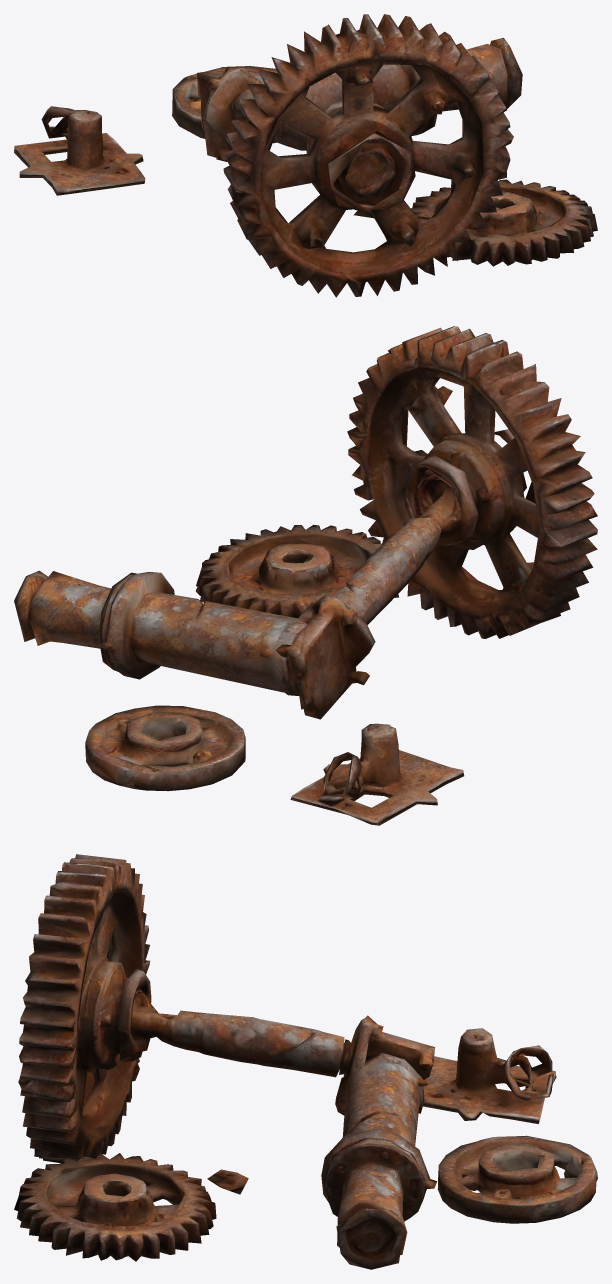
The model's file is qr_scrap3.glb.
The picture shows the model from 3 angles, top to bottom: view 1: azimuth 30°, elevation 25°; view 2: azimuth 150°, elevation 25°; view 3: azimuth 270°, elevation 25°; orthographic projection. The views are drawn at different scales.
Parts seen in each view (by area): view 1: tripo_node_7f6197f4-3ac9-4903-88a2-d6680f6cf3a9; view 2: tripo_node_7f6197f4-3ac9-4903-88a2-d6680f6cf3a9; view 3: tripo_node_7f6197f4-3ac9-4903-88a2-d6680f6cf3a9.
Part boxes in pixels (<box>): tripo_node_7f6197f4-3ac9-4903-88a2-d6680f6cf3a9: <box>14,14,597,297</box>; tripo_node_7f6197f4-3ac9-4903-88a2-d6680f6cf3a9: <box>14,326,597,825</box>; tripo_node_7f6197f4-3ac9-4903-88a2-d6680f6cf3a9: <box>14,854,597,1269</box>.
Bounding box in the file's own units: 0.9117 × 0.5283 × 1.
Materials: 1 (1 with a texture image).
